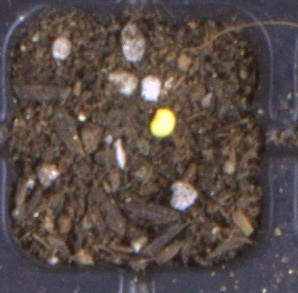chilli seed: (148, 107, 176, 138)
